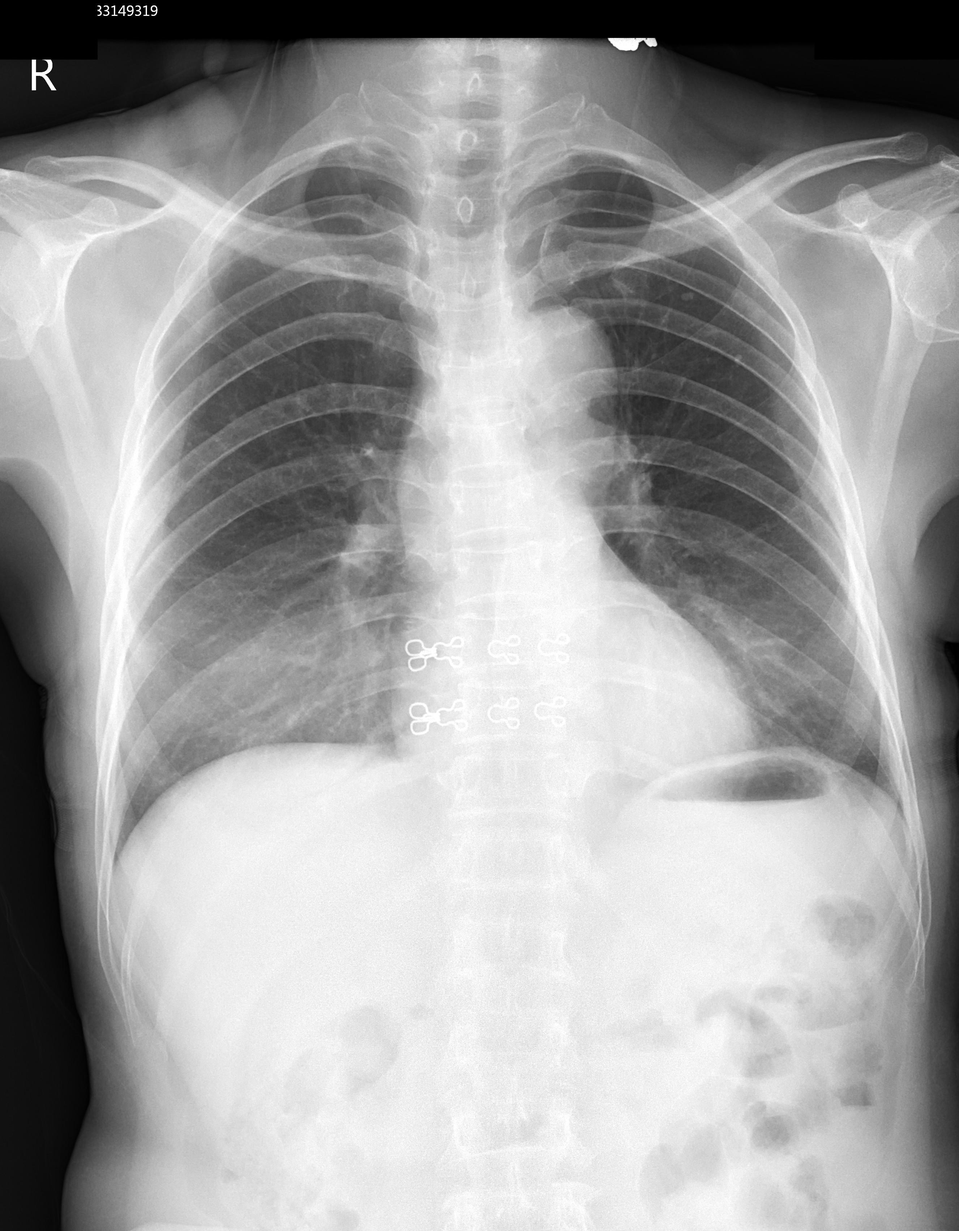Aortic enlargement: (504, 307, 620, 458)
